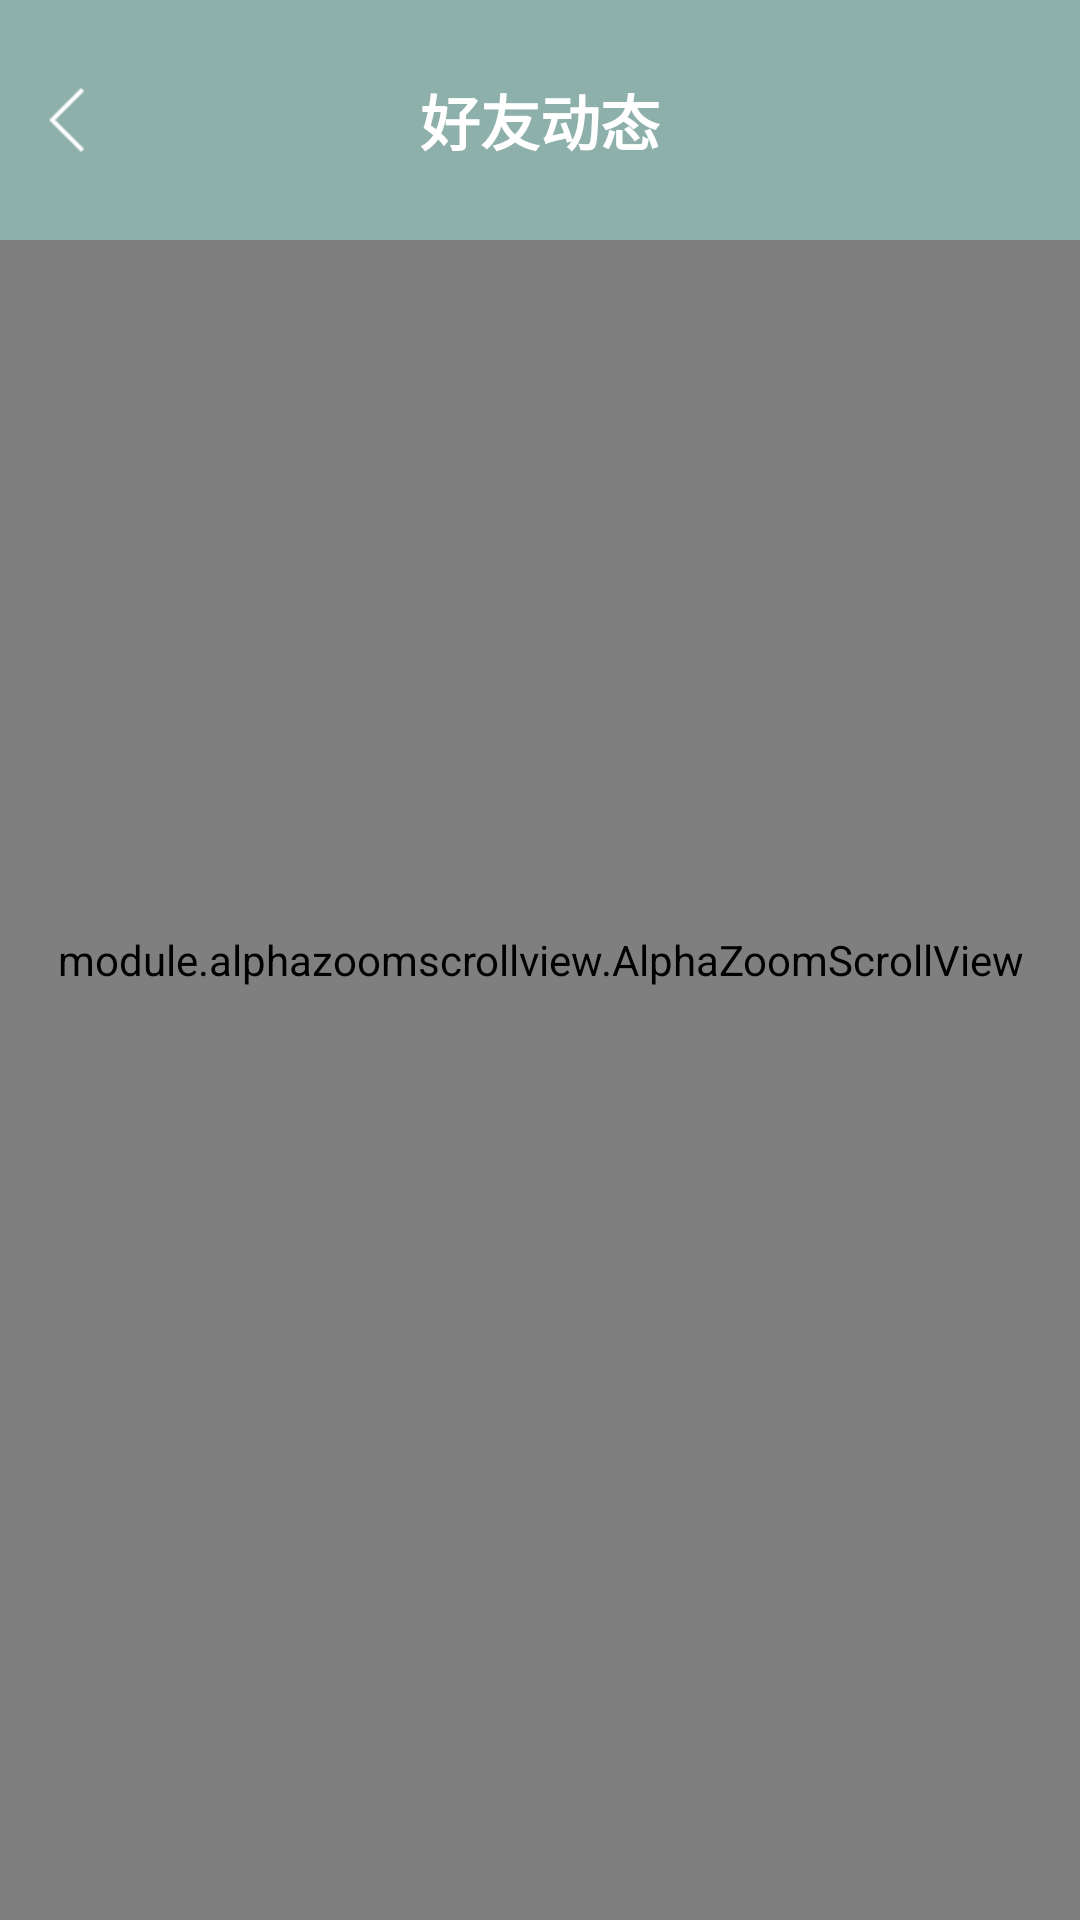

Named icons in this screenshot (1080w x 1920h) and their bounding boxes, [x1=x1, y1=y1, x2=x2, y2=y2]:
back arrow app: [x1=49, y1=88, x2=84, y2=152]
